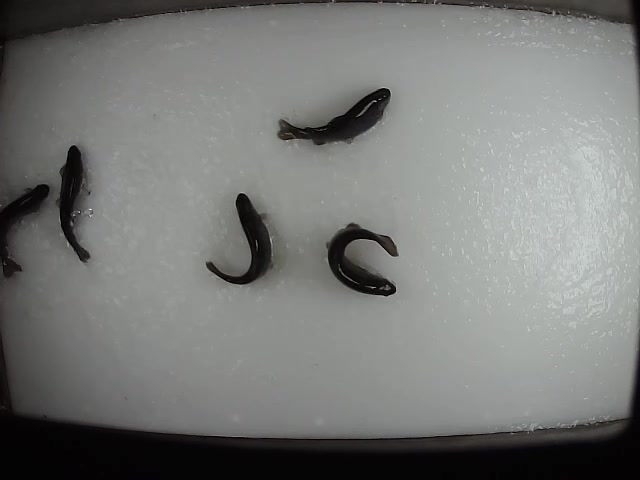fish: (275, 83, 396, 149), (205, 189, 278, 285), (323, 219, 402, 297), (55, 143, 93, 265)
